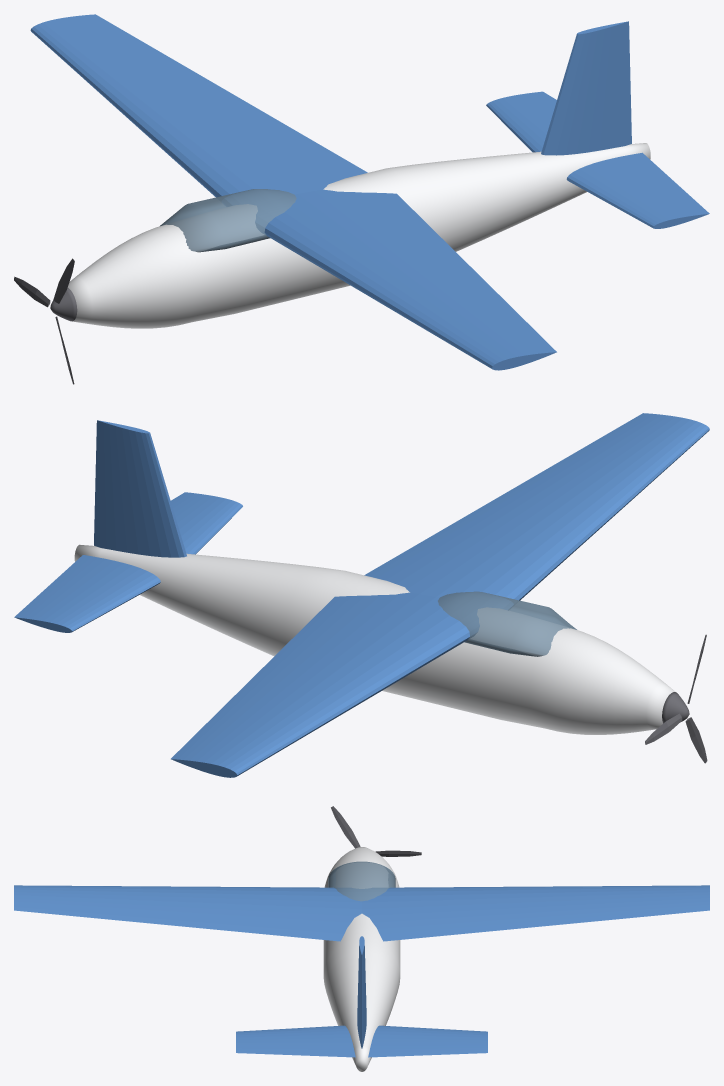
File: airframe.glb
The picture shows the model from 3 angles, top to bottom: view 1: azimuth 30°, elevation 25°; view 2: azimuth 150°, elevation 25°; view 3: azimuth 270°, elevation 25°; orthographic projection. The views are drawn at different scales.
Visible parts, largest first — view 1: MainWing, Fuselage, VerticalTail, HorizontalTail, Canopy, Propeller; view 2: MainWing, Fuselage, VerticalTail, HorizontalTail, Canopy, Propeller; view 3: MainWing, Fuselage, HorizontalTail, Canopy, VerticalTail, Propeller.
Boxes of the visible parts, left/top/right/bottom form: MainWing: left=30, top=14, right=556, bottom=370; Fuselage: left=67, top=143, right=650, bottom=328; VerticalTail: left=541, top=21, right=631, bottom=155; HorizontalTail: left=486, top=91, right=709, bottom=228; Canopy: left=160, top=189, right=296, bottom=252; Propeller: left=14, top=258, right=74, bottom=384; MainWing: left=171, top=413, right=709, bottom=777; Fuselage: left=74, top=544, right=676, bottom=734; VerticalTail: left=94, top=420, right=186, bottom=557; HorizontalTail: left=14, top=492, right=242, bottom=632; Canopy: left=438, top=591, right=576, bottom=656; Propeller: left=645, top=634, right=707, bottom=763; MainWing: left=14, top=885, right=709, bottom=941; Fuselage: left=323, top=847, right=400, bottom=1071; HorizontalTail: left=236, top=1025, right=487, bottom=1057; Canopy: left=328, top=861, right=395, bottom=901; VerticalTail: left=357, top=936, right=366, bottom=1048; Propeller: left=331, top=806, right=421, bottom=856.
Bounding box in the file's own units: 8.25 × 2.76 × 11.05.
